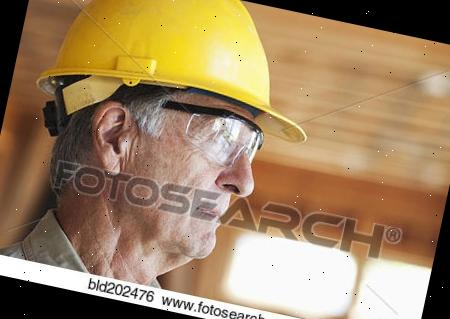helmet: (26, 0, 337, 161)
